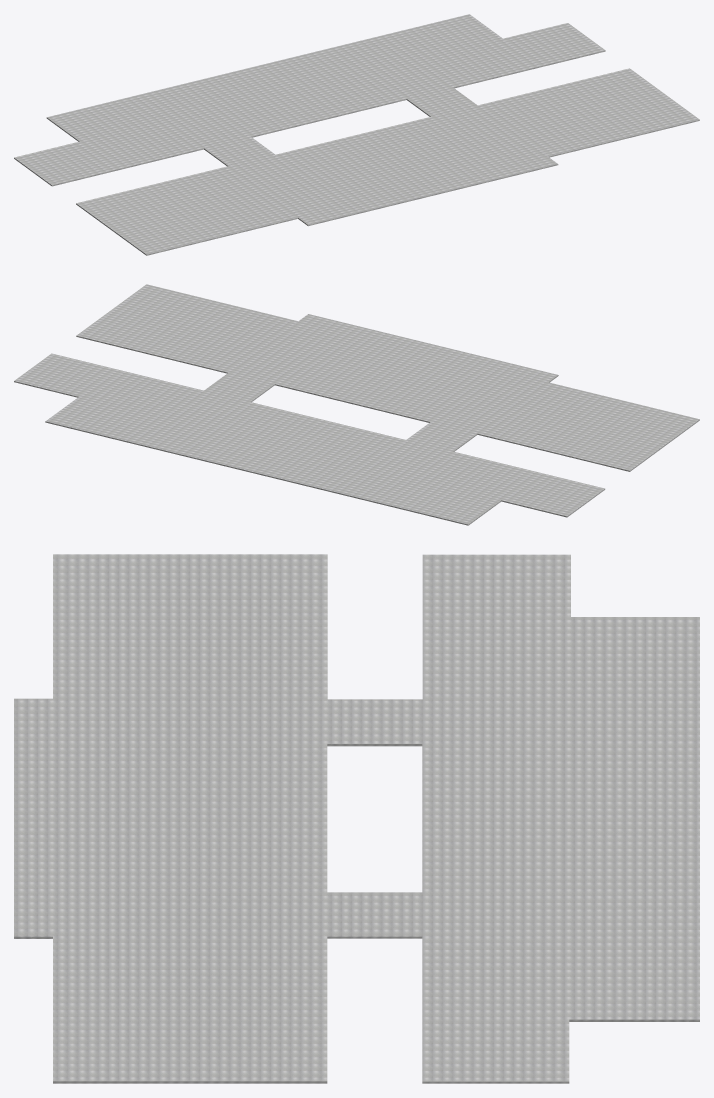
Rendered from floor.dae.
3 views of the same model, one above another, from view 1: azimuth 30°, elevation 25°; view 2: azimuth 150°, elevation 25°; view 3: azimuth 270°, elevation 25° (orthographic). The views are drawn at different scales.
Parts seen in each view (by area): view 1: Floor; view 2: Floor; view 3: Floor.
Part boxes in pixels (x1,y1,x2,y2): Floor: [14, 14, 699, 255]; Floor: [14, 284, 699, 525]; Floor: [14, 554, 699, 1083].
Bounding box in the file's own units: 63.07 × 34.67 × 0.127.
Materials: 1 (1 with a texture image).
